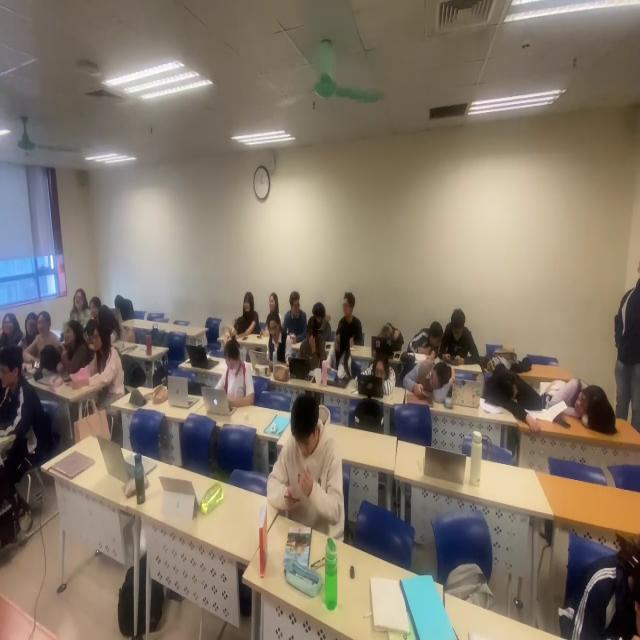raise_head: (1, 307, 24, 347), (71, 284, 91, 325), (89, 292, 104, 322), (268, 291, 282, 317)
sleep: (546, 375, 623, 438), (481, 364, 548, 434), (404, 355, 456, 407), (409, 320, 443, 361)
stand: (616, 262, 640, 435)
using_computer: (205, 342, 258, 422), (361, 346, 397, 402), (296, 319, 326, 382)
using_phone: (276, 407, 329, 521), (448, 312, 472, 365)
